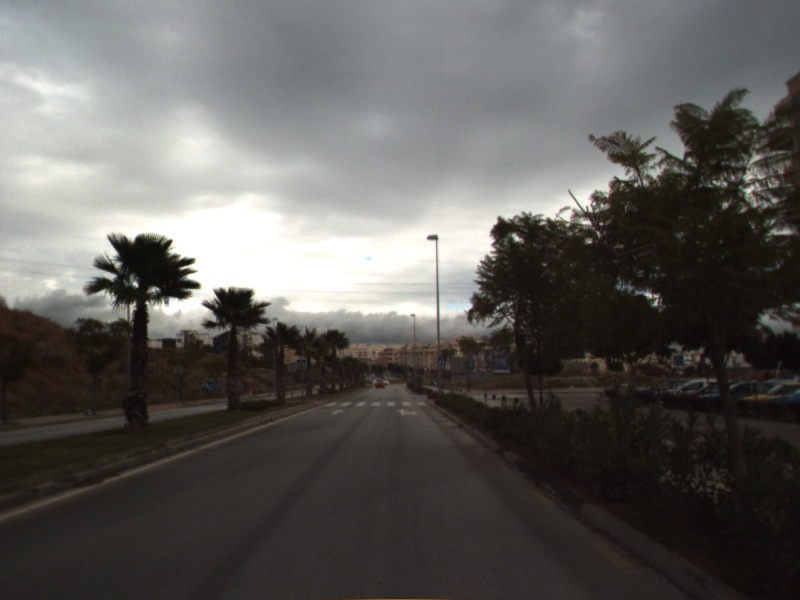STRAIGHT: (330, 406, 347, 417)
STRAIGHT_RIGHT: (394, 406, 420, 417)
